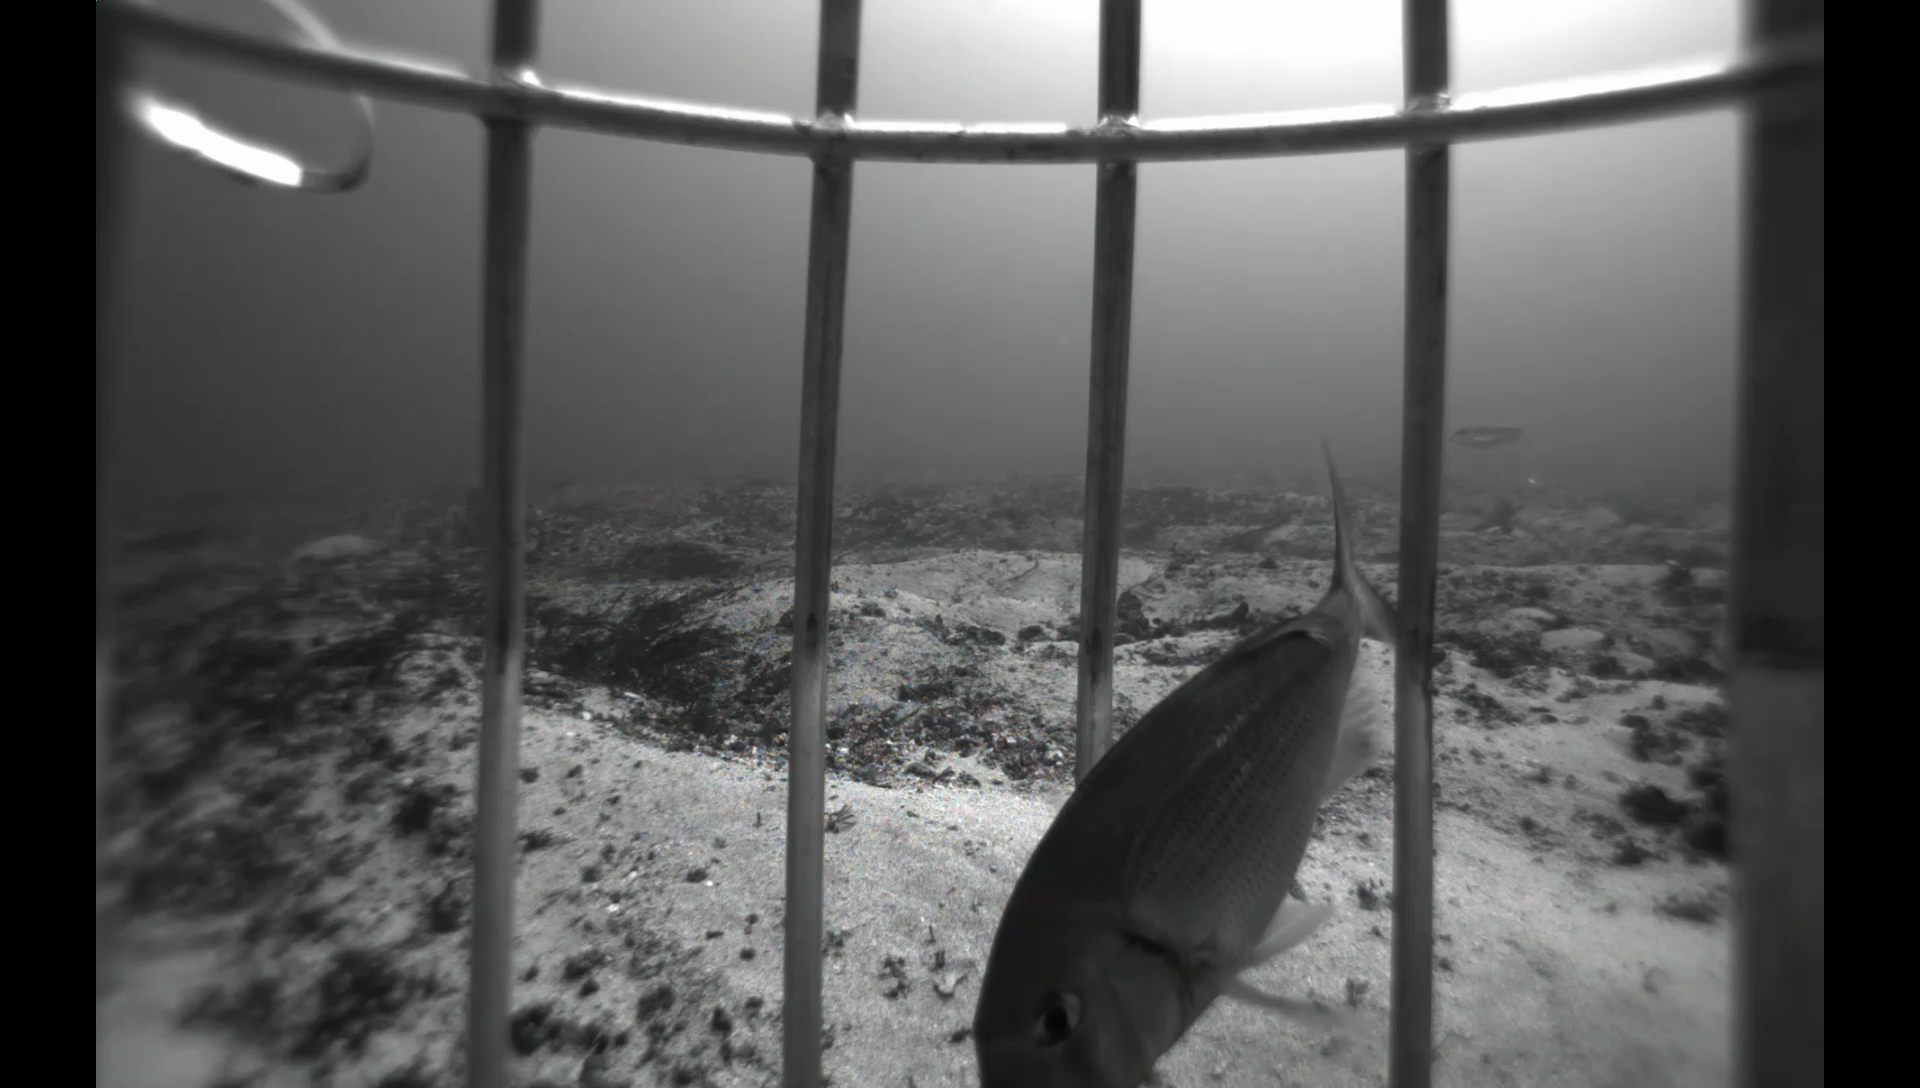MALACANTHUSPLUMIERI-170070301: (1447, 418, 1532, 450)
PAGRUSPAGRUS-170212302: (968, 415, 1396, 1085)
POMACANTHUSARCUATUS-170290201: (442, 483, 545, 549)
